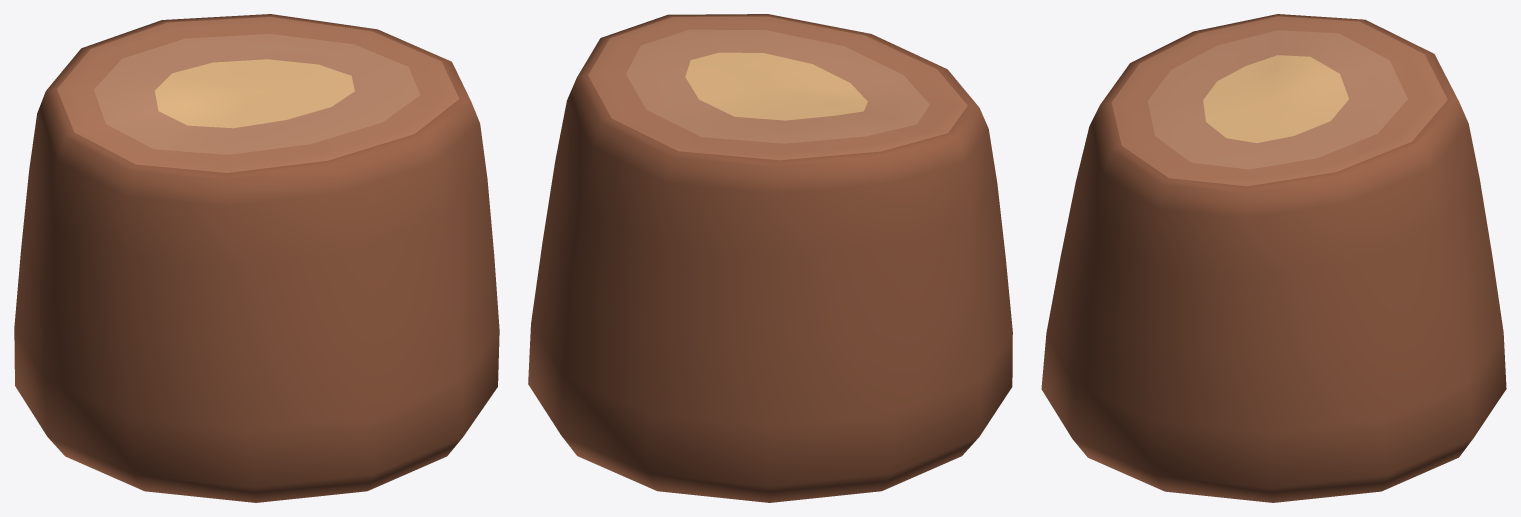
Rendered from Stump_A_02.fbx.
The picture shows the model from 3 angles, left to right: view 1: azimuth 30°, elevation 25°; view 2: azimuth 150°, elevation 25°; view 3: azimuth 270°, elevation 25°; orthographic projection. The views are drawn at different scales.
Parts seen in each view (by area): view 1: Stump_A_02_LOD0; view 2: Stump_A_02_LOD0; view 3: Stump_A_02_LOD0.
Part boxes in pixels (x1,y1,x2,y2): Stump_A_02_LOD0: (14, 14, 499, 502); Stump_A_02_LOD0: (528, 14, 1012, 502); Stump_A_02_LOD0: (1041, 14, 1506, 502).
Size of what is drawn, in the model's own units: 178 by 134 by 176.
